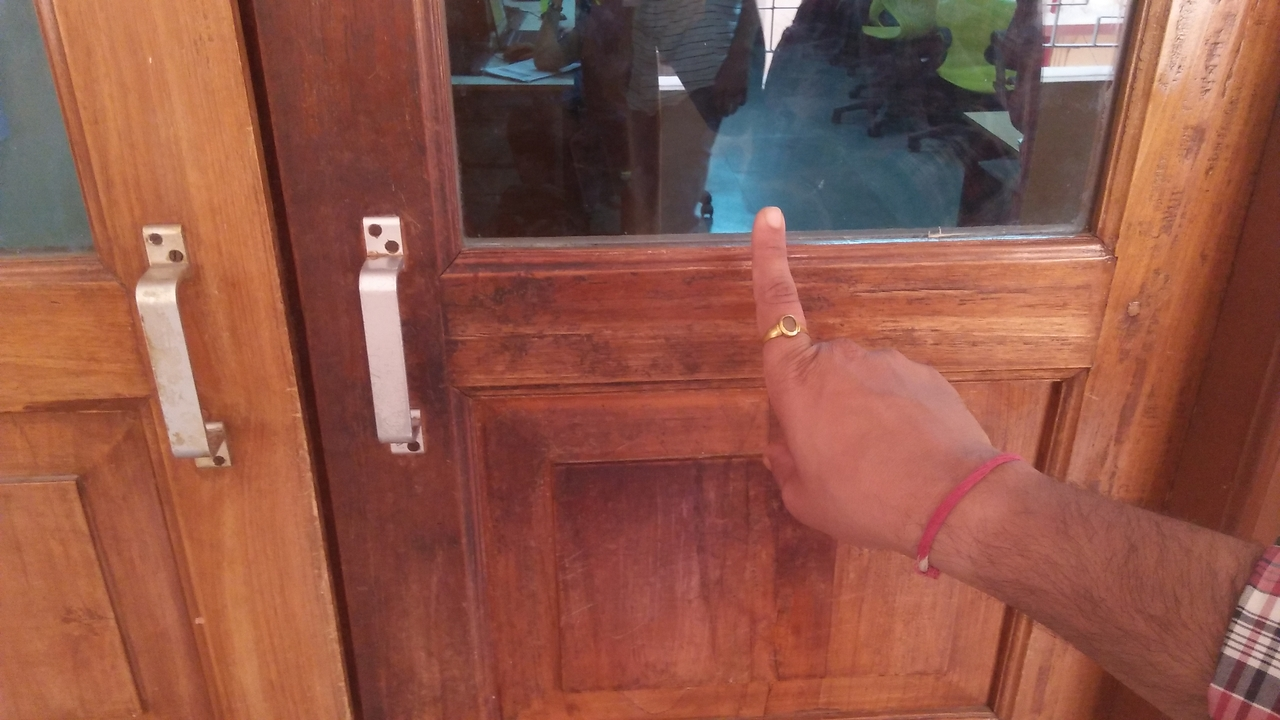fingertip: (746, 190, 796, 240)
